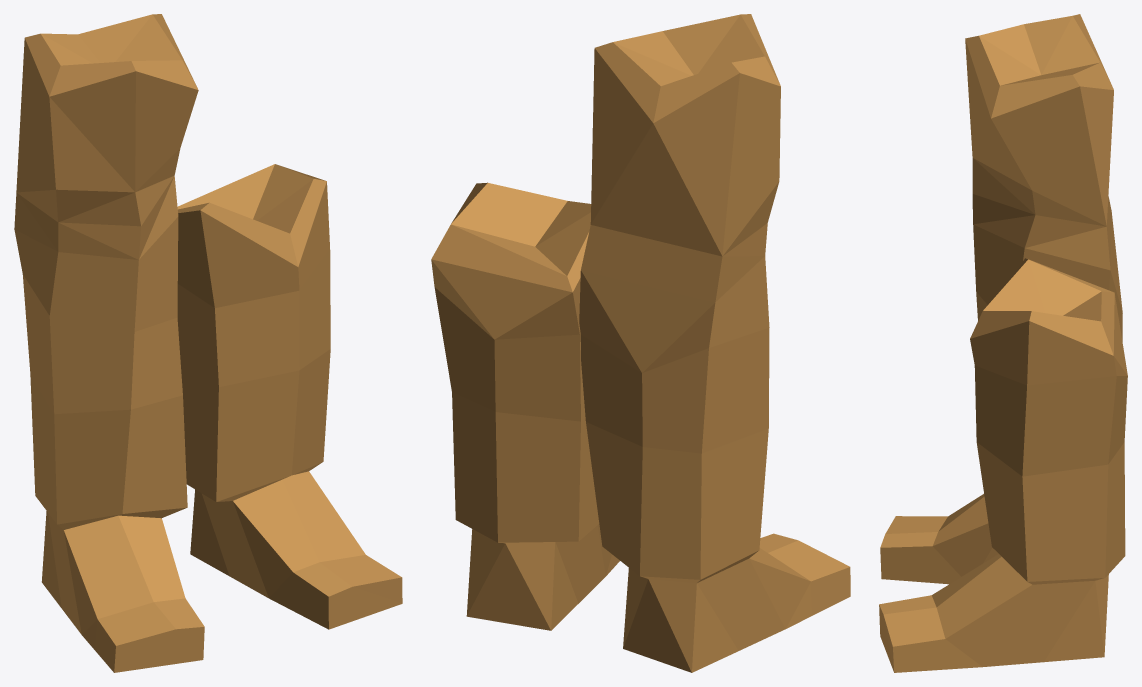
The model's file is SM_Prop_Statue_Broken_02.glb.
The picture shows the model from 3 angles, left to right: view 1: azimuth 30°, elevation 25°; view 2: azimuth 150°, elevation 25°; view 3: azimuth 270°, elevation 25°; orthographic projection. The views are drawn at different scales.
Visible parts, largest first — view 1: SM_Prop_Statue_Broken_02; view 2: SM_Prop_Statue_Broken_02; view 3: SM_Prop_Statue_Broken_02.
Boxes of the visible parts, x1,y1,x2,y2 form: SM_Prop_Statue_Broken_02: (14, 14, 402, 672); SM_Prop_Statue_Broken_02: (431, 14, 850, 672); SM_Prop_Statue_Broken_02: (879, 14, 1127, 672).
Size of the model in its own units: 0.5666 by 1.07 by 0.4513.
1 material, 1 textured.
